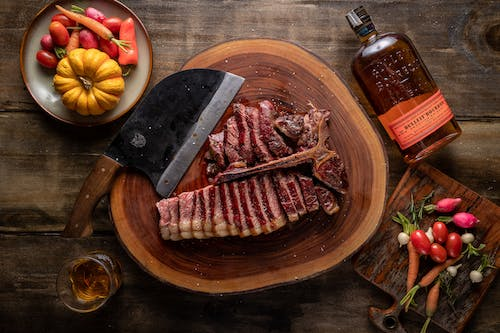knife: (59, 66, 246, 241)
